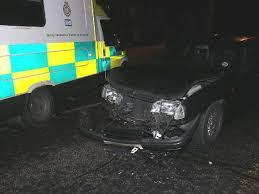front-bumper-dent: (109, 98, 173, 124)
